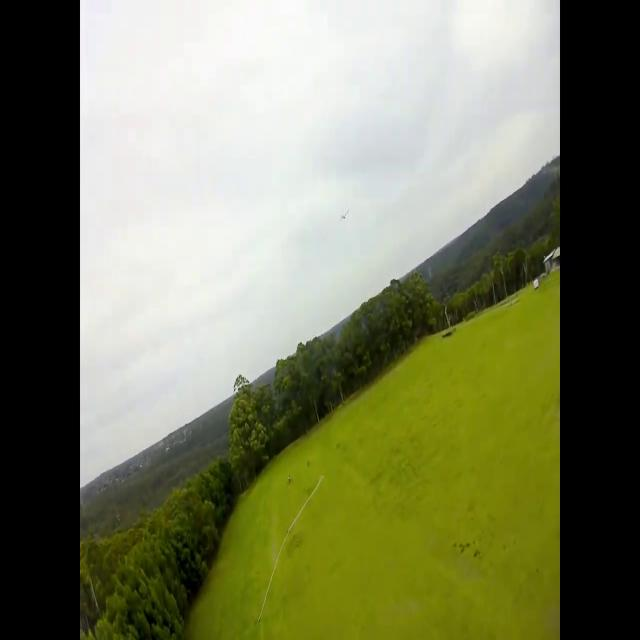iha: (344, 209, 346, 222)
